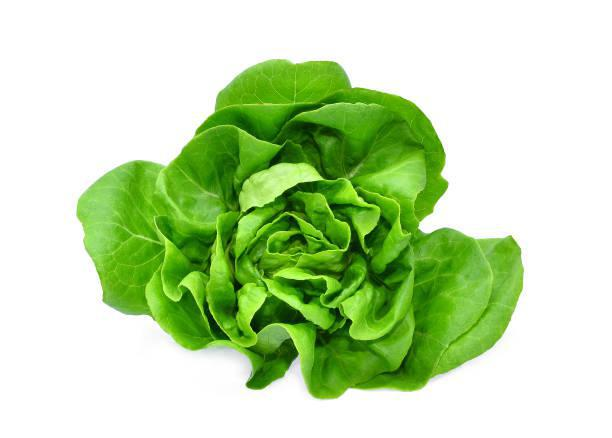HEALTHY: (92, 59, 520, 396)
